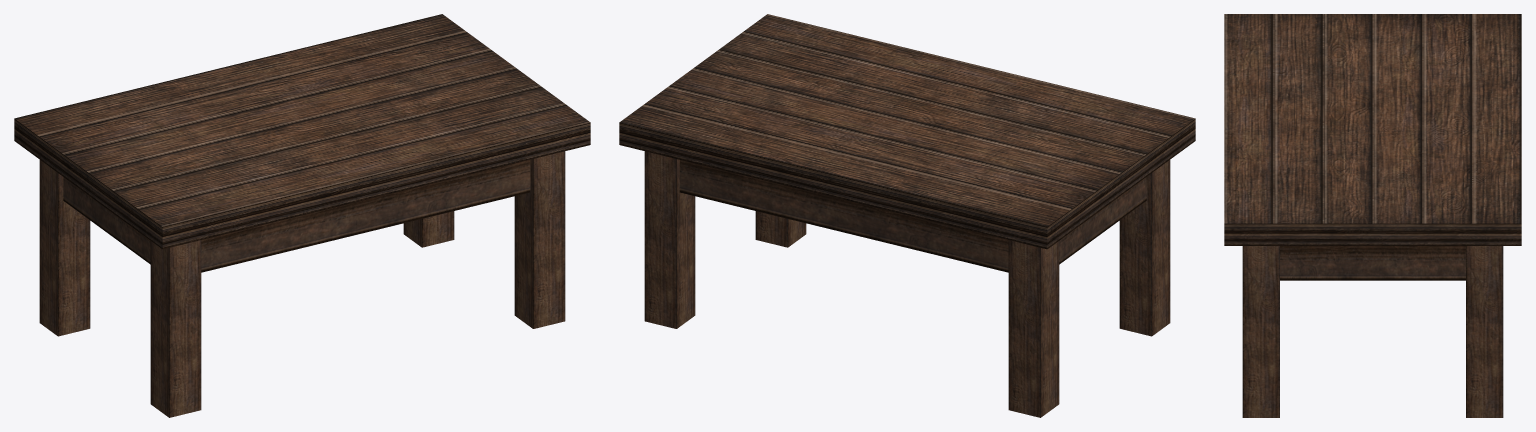
Rendered from GS_CITY_TABLE_NORMAL_ORANGE_01_KOZA.glb.
3 views of the same model, side by side, from view 1: azimuth 30°, elevation 25°; view 2: azimuth 150°, elevation 25°; view 3: azimuth 270°, elevation 25° (orthographic).
Visible parts, largest first — view 1: GS_CITY_TABLE_NORMAL_ORANGE_01_KOZA; view 2: GS_CITY_TABLE_NORMAL_ORANGE_01_KOZA; view 3: GS_CITY_TABLE_NORMAL_ORANGE_01_KOZA.
Boxes of the visible parts, x1,y1,x2,y2 form: GS_CITY_TABLE_NORMAL_ORANGE_01_KOZA: (14,14,590,417); GS_CITY_TABLE_NORMAL_ORANGE_01_KOZA: (619,14,1195,417); GS_CITY_TABLE_NORMAL_ORANGE_01_KOZA: (1224,14,1521,417).
Bounding box in the file's own units: 2 × 0.9 × 1.2.
2 materials, 2 textured.
